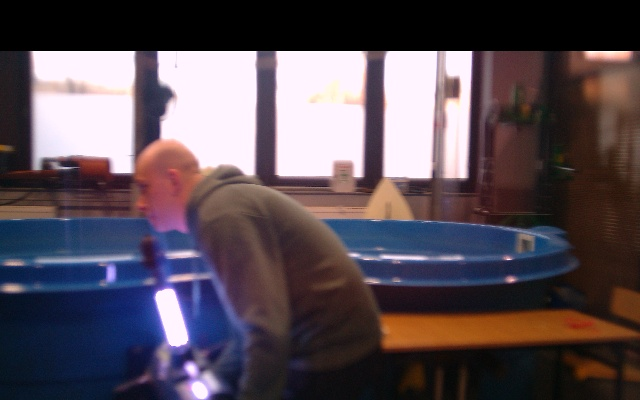white: (155, 287, 189, 346)
